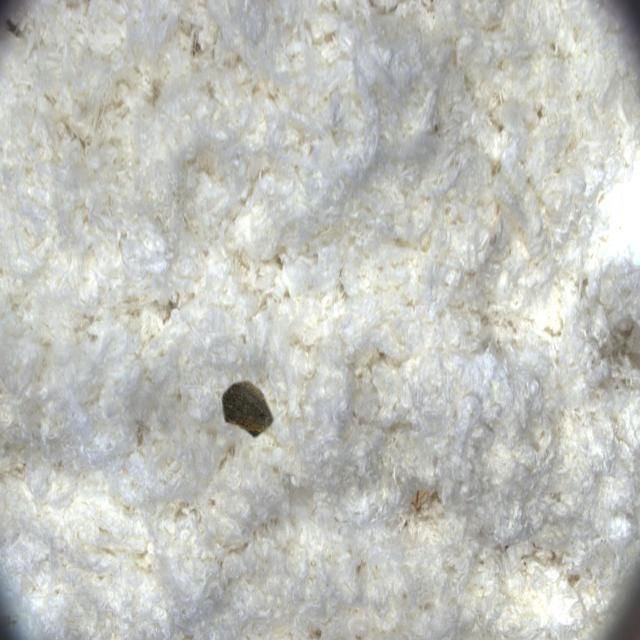dust: (208, 350, 301, 475)
